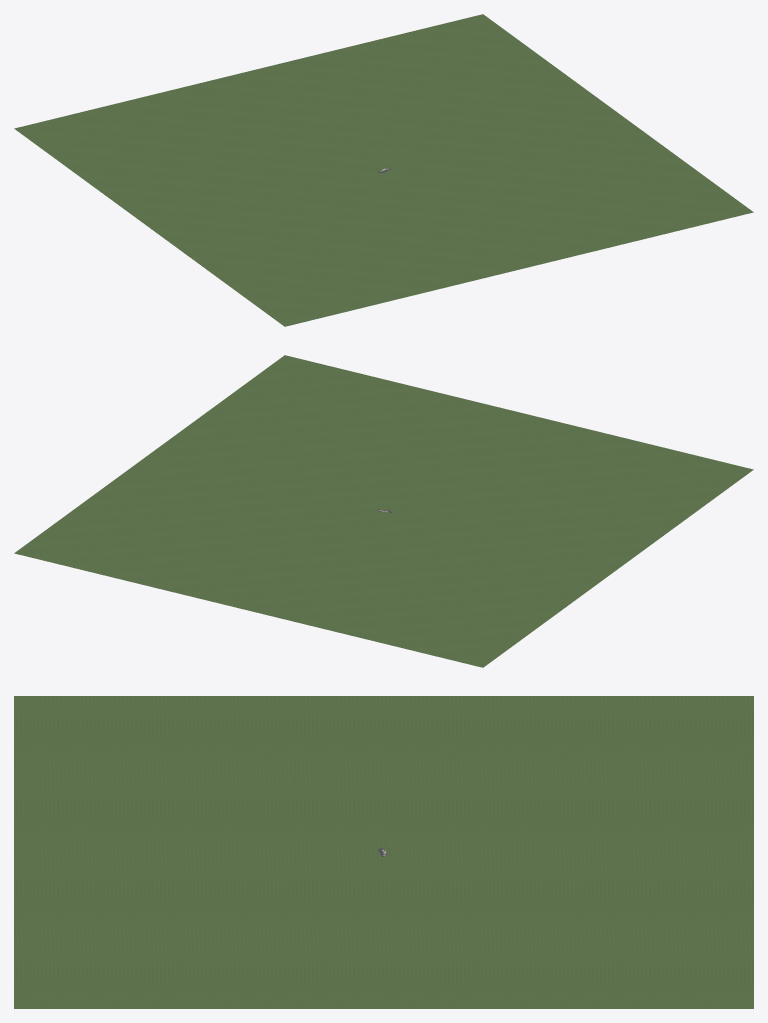
3 views of the same model, one above another, from view 1: azimuth 30°, elevation 25°; view 2: azimuth 150°, elevation 25°; view 3: azimuth 270°, elevation 25° (orthographic). The views are drawn at different scales.
Visible parts, largest first — view 1: 14_Complete_Architecture; view 2: 14_Complete_Architecture; view 3: 14_Complete_Architecture.
Part boxes in pixels (x1,y1,x2,y2): 14_Complete_Architecture: [14, 14, 753, 326]; 14_Complete_Architecture: [14, 355, 753, 667]; 14_Complete_Architecture: [14, 696, 753, 1008].
Size of the model in its own units: 5000 by 10.13 by 5000.
Materials: 18 (8 with a texture image).
